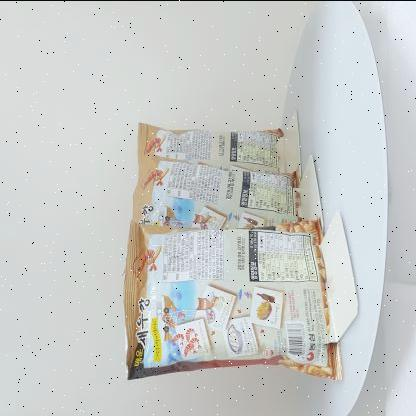Others: (115, 108, 347, 384)
